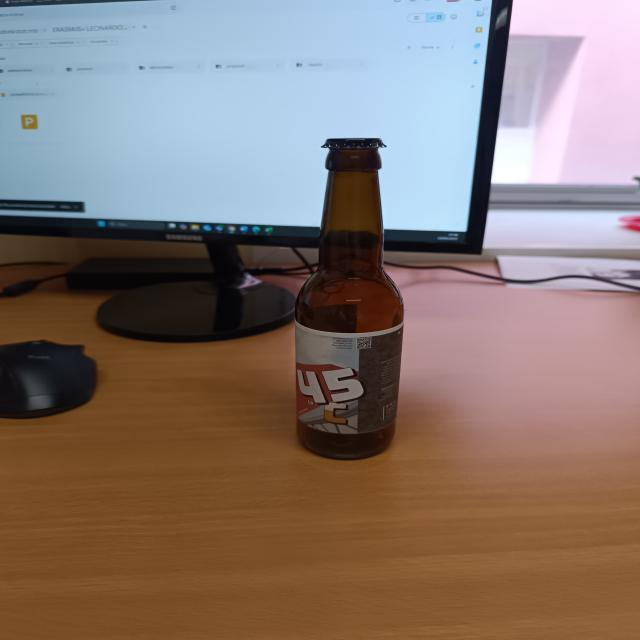Bottle: (292, 135, 407, 462)
Cap: (316, 136, 396, 152)
Label: (294, 326, 402, 432)
